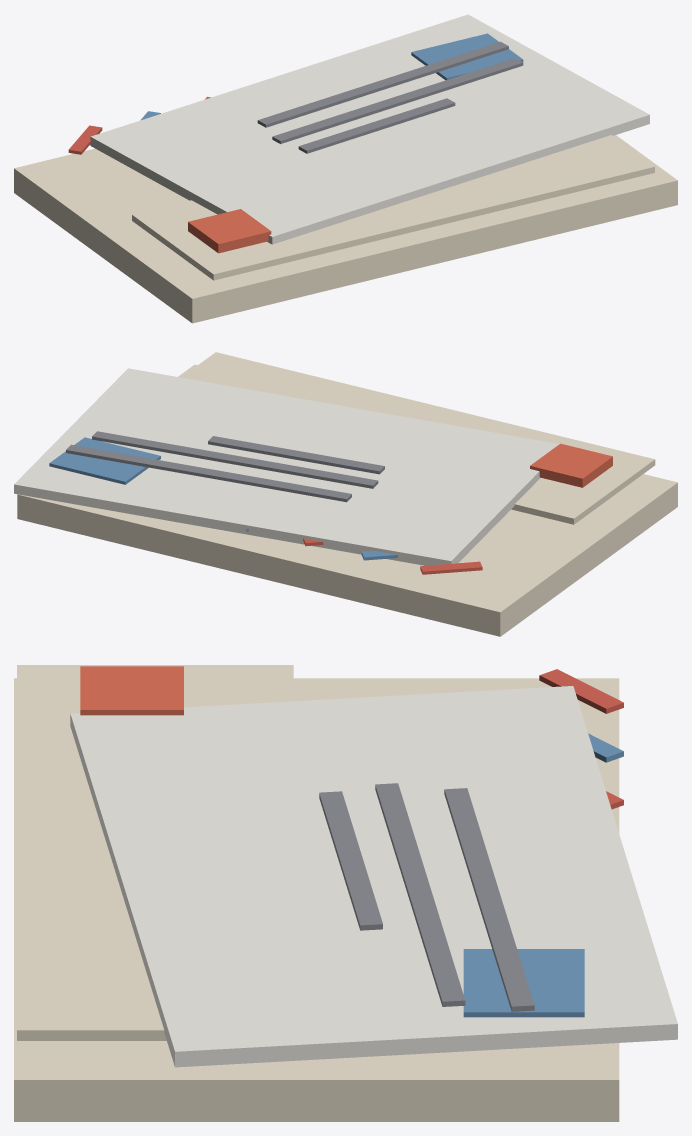
Rendered from old_letter.glb.
The picture shows the model from 3 angles, top to bottom: view 1: azimuth 30°, elevation 25°; view 2: azimuth 150°, elevation 25°; view 3: azimuth 270°, elevation 25°; orthographic projection. The views are drawn at different scales.
Parts seen in each view (by area): view 1: old_letter; view 2: old_letter; view 3: old_letter.
Boxes of the visible parts, bbox=[...] form: old_letter: bbox=[14, 14, 677, 323]; old_letter: bbox=[14, 352, 677, 636]; old_letter: bbox=[14, 665, 677, 1121].
Bounding box in the file's own units: 0.1716 × 0.0185 × 0.1152.
